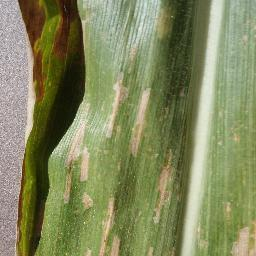Gray_Leaf_Spot: (17, 0, 85, 117), (12, 149, 50, 256), (61, 145, 92, 210), (151, 152, 178, 224), (130, 86, 155, 157), (98, 194, 125, 256), (105, 76, 131, 140), (153, 3, 178, 43), (232, 217, 256, 256), (71, 119, 90, 143), (125, 40, 138, 70), (222, 198, 233, 223), (230, 130, 243, 146), (175, 84, 187, 98), (146, 244, 156, 256), (86, 247, 95, 256)
